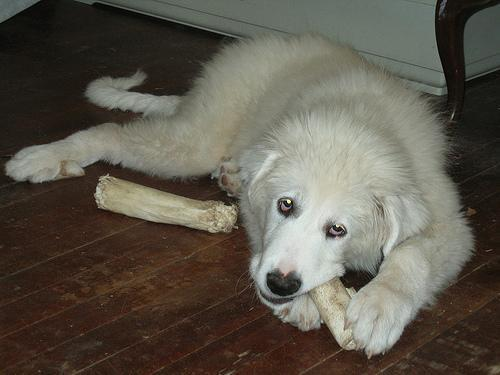Great_Pyrenees: (7, 29, 471, 357)
